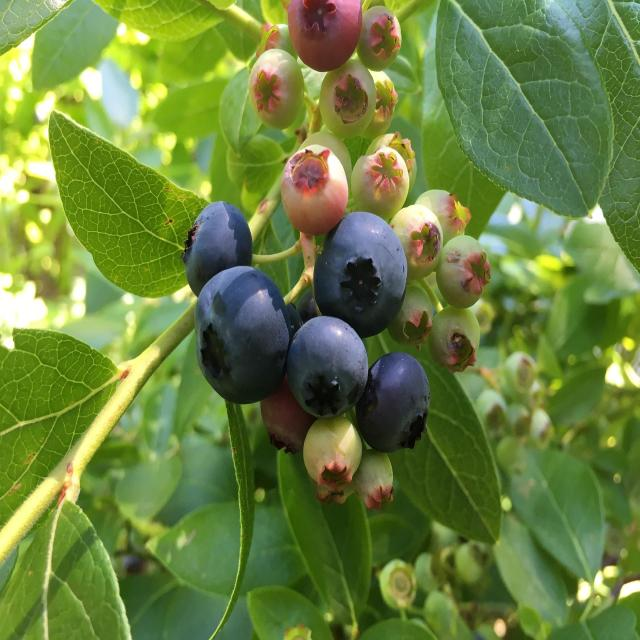BlueBerry - v1: (188, 259, 302, 410), (310, 200, 412, 342), (285, 310, 372, 425), (353, 337, 433, 459), (170, 191, 256, 292), (274, 141, 358, 241), (343, 132, 415, 228), (240, 37, 310, 133), (305, 53, 381, 139), (295, 408, 367, 494), (279, 0, 368, 69), (433, 225, 502, 311), (420, 289, 482, 380), (392, 187, 449, 279), (410, 173, 477, 247), (352, 0, 410, 79), (346, 446, 399, 517), (360, 64, 405, 140)
